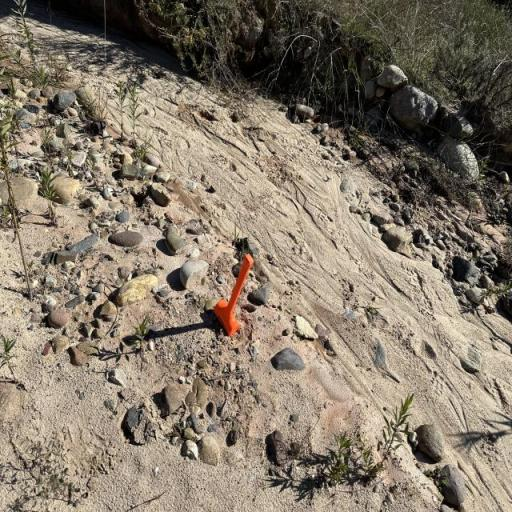mallet: (213, 254, 255, 336)
